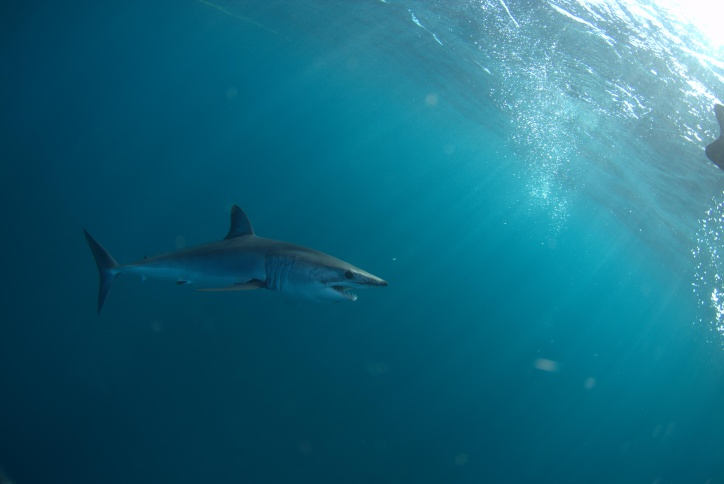Mako: (71, 201, 405, 333)
